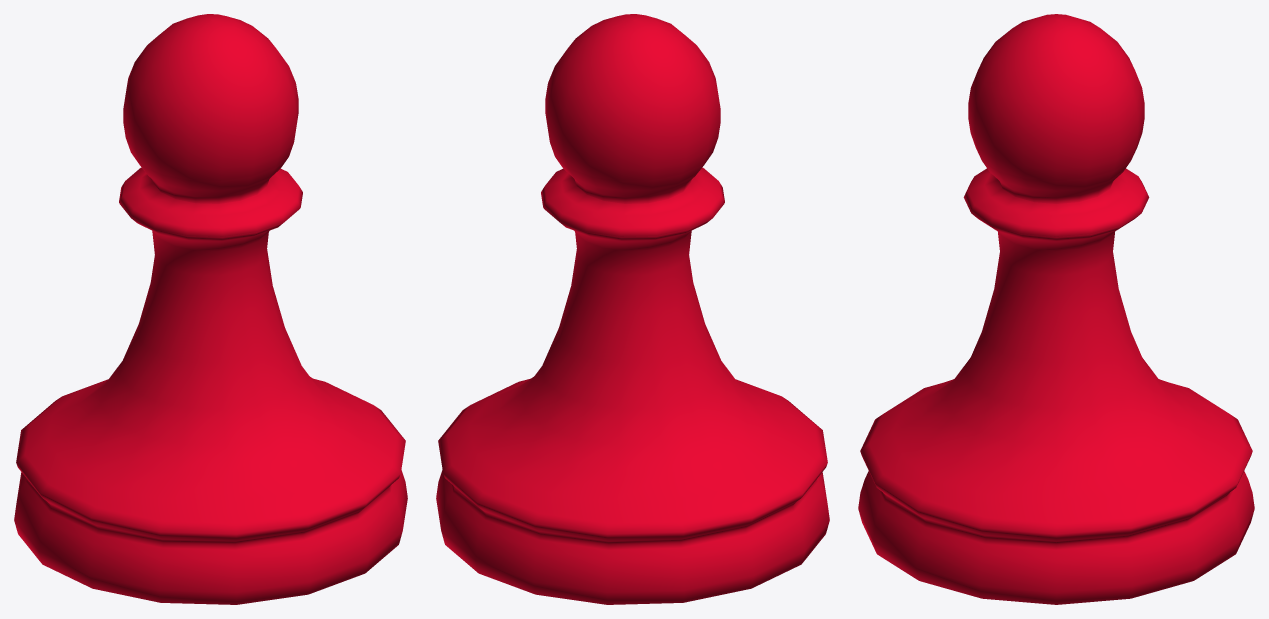
File: chess_pawn.glb
3 views of the same model, side by side, from view 1: azimuth 30°, elevation 25°; view 2: azimuth 150°, elevation 25°; view 3: azimuth 270°, elevation 25° (orthographic).
Visible parts, largest first — view 1: Cube_0; view 2: Cube_0; view 3: Cube_0.
Boxes of the visible parts, <box> form: Cube_0: <box>14,14,407,604</box>; Cube_0: <box>436,14,829,604</box>; Cube_0: <box>858,14,1254,604</box>.
Bounding box in the file's own units: 2.75 × 3.98 × 2.75.
